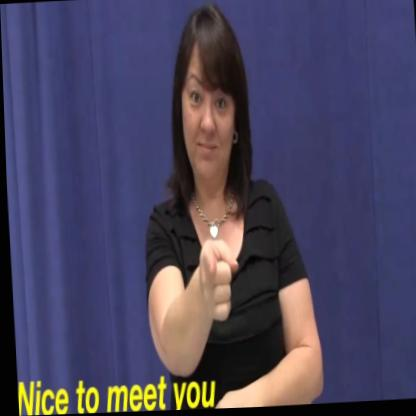NiceToMeetYou: (172, 199, 261, 361)
